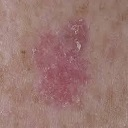Carcinoma: (37, 17, 90, 107)
